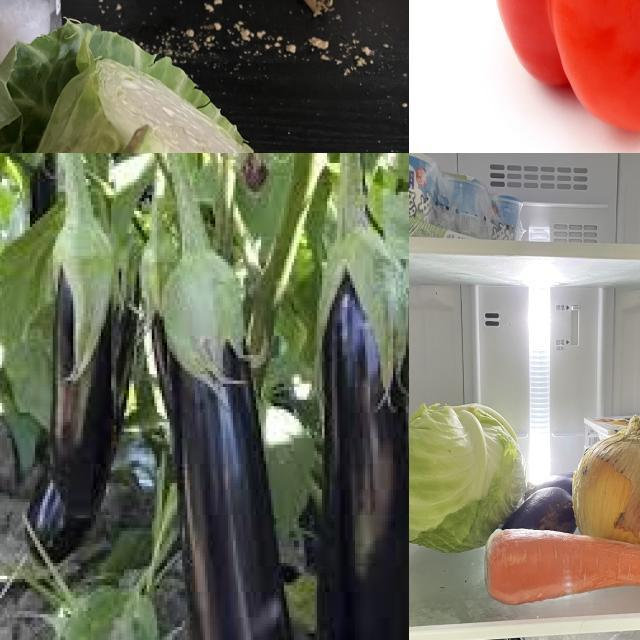bell_pepper: (468, 1, 640, 140)
cabbage: (1, 16, 370, 154), (410, 409, 525, 556)
carrot: (485, 525, 640, 604)
eggplant: (162, 253, 310, 640), (315, 224, 410, 640), (44, 218, 112, 516), (502, 485, 576, 538), (520, 472, 577, 508)
onion: (572, 422, 640, 558)
